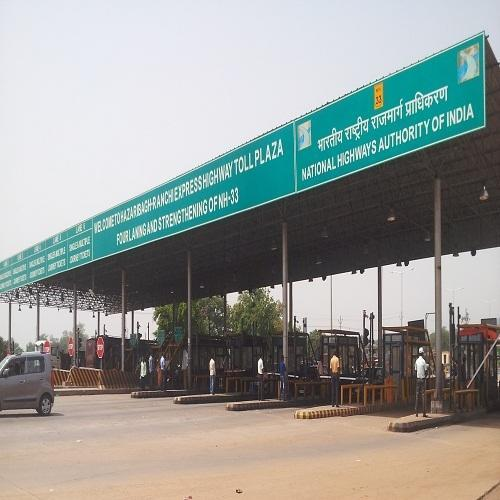toll plaza: (37, 29, 497, 408)
